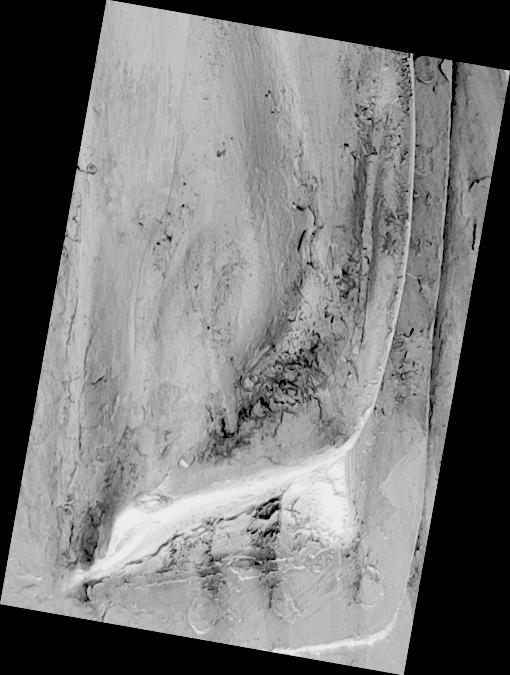dent: (1, 0, 510, 674)
